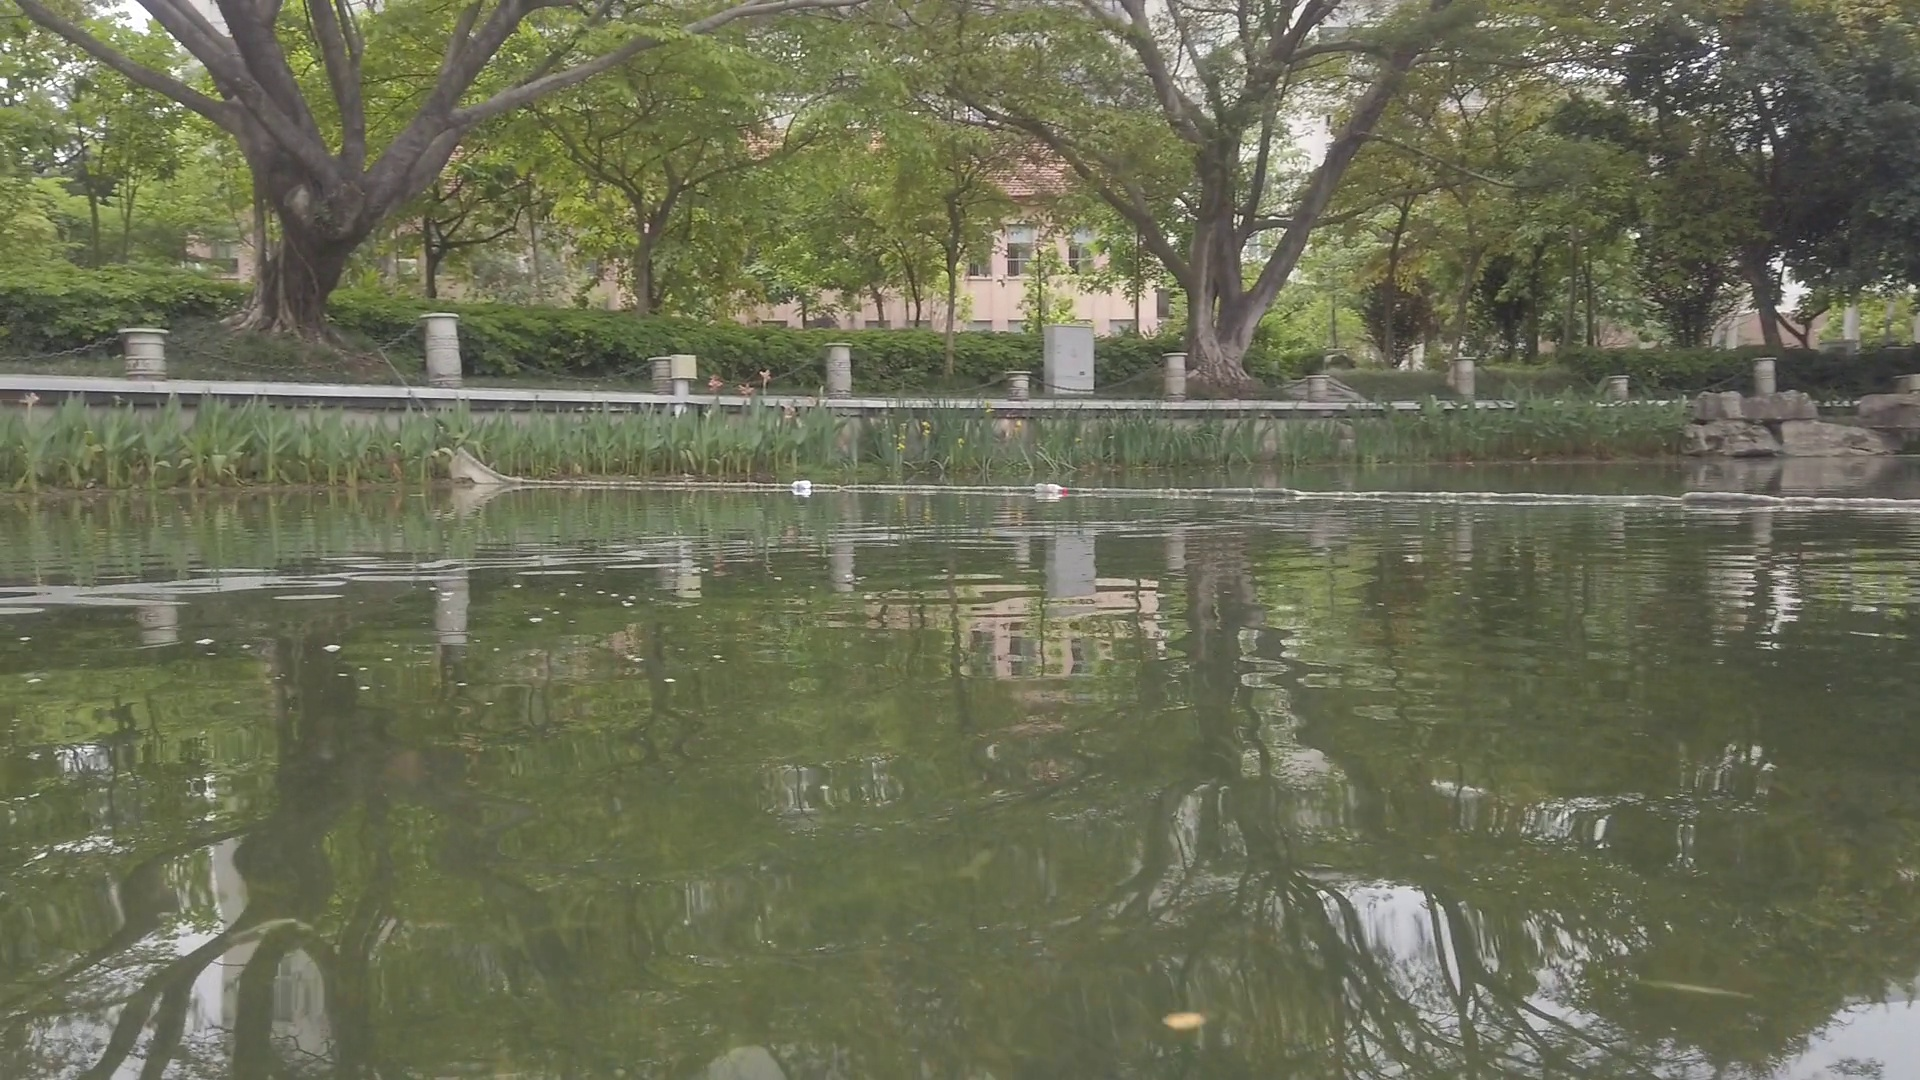bottle: (1035, 483, 1068, 495), (793, 477, 812, 491)
